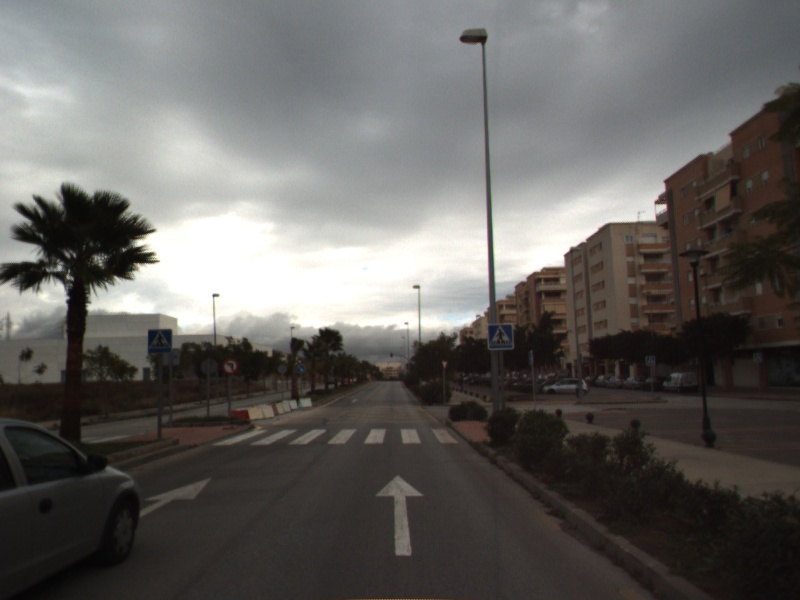STRAIGHT: (373, 473, 426, 557), (139, 475, 214, 519)
